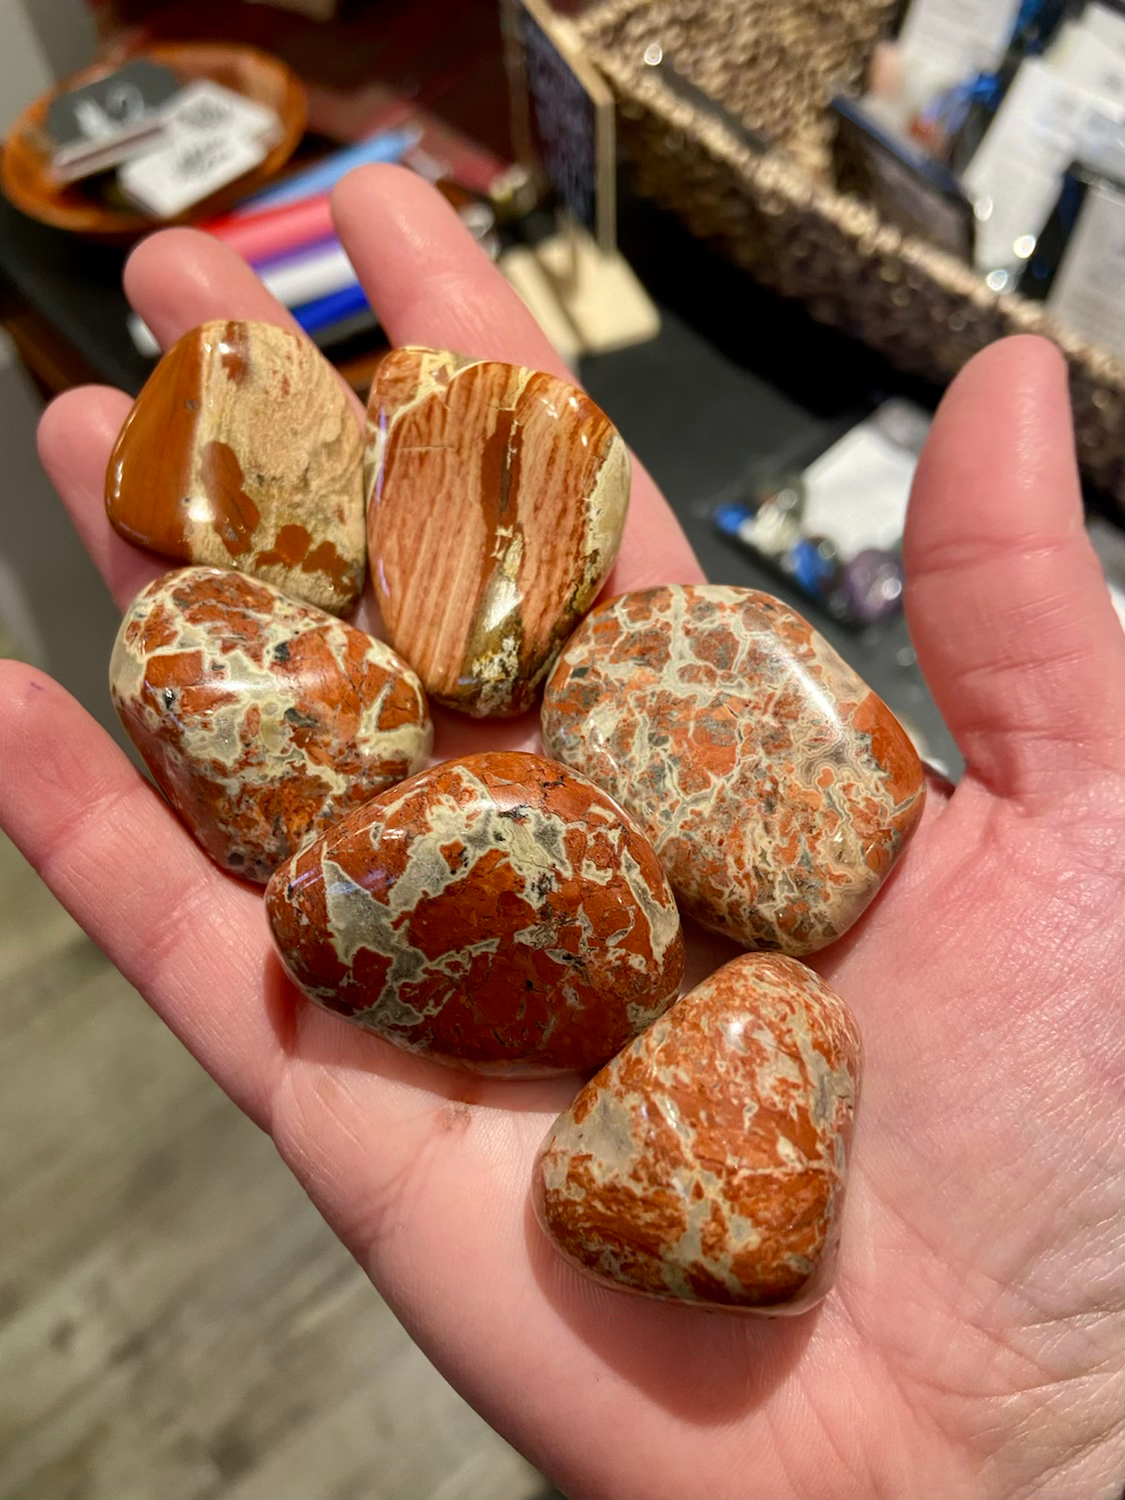Red_Jasper: (264, 751, 689, 1069), (381, 364, 633, 713), (106, 316, 375, 583)
